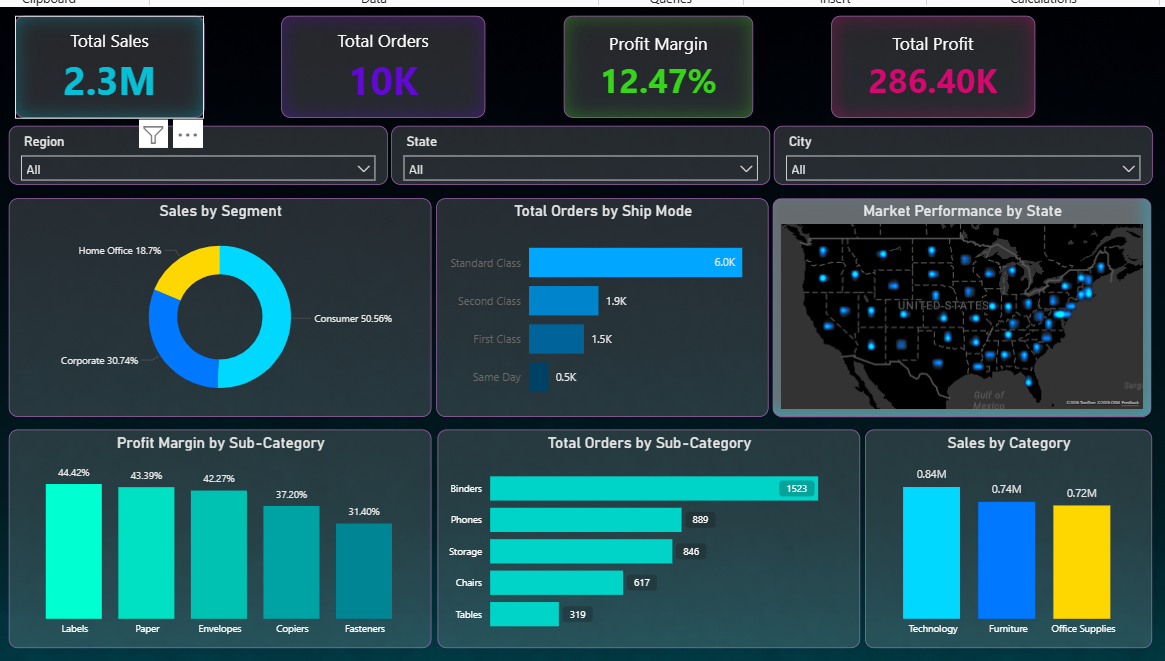

The dashboard page shown, as its layout file describes it:
{"tool":"powerbi","page":{"name":"Executive Summary","canvas":[1280,720],"ordinal":0},"visuals":[{"type":"clusteredColumnChart","title":"Sales by Category","fields":{"Y":["Sum(SampleSuperstore.Sales)"],"Category":["SampleSuperstore.Category"]},"box":[950,464,315,240],"z":0},{"type":"barChart","title":"Total Orders by Sub-Category","fields":{"Category":["SampleSuperstore.Sub-Category"],"Y":["SampleSuperstore.Total Orders"]},"box":[480,464,464,240],"z":1000},{"type":"azureMap","title":"Market Performance by State","fields":{"Size":["Sum(SampleSuperstore.Sales)"],"Category":["SampleSuperstore.State"]},"box":[848,210,416,240],"z":2000},{"type":"slicer","fields":{"Values":["SampleSuperstore.Region"]},"box":[10,130,416,65],"z":3000},{"type":"slicer","fields":{"Values":["SampleSuperstore.State"]},"box":[430,130,416,65],"z":4000},{"type":"slicer","fields":{"Values":["SampleSuperstore.City"]},"box":[850,130,416,65],"z":5000},{"type":"cardVisual","title":"Total Orders","fields":{"Data":["SampleSuperstore.Total Orders"]},"box":[309.3,10,224,112],"z":6000},{"type":"cardVisual","title":"Total Profit","fields":{"Data":["SampleSuperstore.Total Profit"]},"box":[912,10,224,112],"z":7000},{"type":"cardVisual","title":"Total Sales","fields":{"Data":["SampleSuperstore.Total Sales"]},"box":[16,10,208,112],"z":8000},{"type":"columnChart","fields":{"Category":["SampleSuperstore.Sub-Category"],"Y":["SampleSuperstore.Profit Margin"]},"box":[10,464,464,240],"z":11000},{"type":"donutChart","title":" Sales by Segment","fields":{"Category":["SampleSuperstore.Segment"],"Y":["Sum(SampleSuperstore.Sales)"]},"box":[10,210,464,240],"z":12000},{"type":"cardVisual","title":"Profit Margin","fields":{"Data":["SampleSuperstore.Profit Margin"]},"box":[618.7,10,208,112],"z":14000},{"type":"barChart","fields":{"Category":["SampleSuperstore.Ship Mode"],"Y":["SampleSuperstore.Total Orders"]},"box":[478.5,210,365,240],"z":16000}]}

Visuals, with their boxes on the page's 1280x720 design canvas (x1, y1, x2, y2). These are canvas units, not pixel positions in the 1165x661 screenshot, which may show the page scaled, cropped or inside an application window:
"Sales by Category" clusteredColumnChart: 950 464 1265 704
"Total Orders by Sub-Category" barChart: 480 464 944 704
"Market Performance by State" azureMap: 848 210 1264 450
slicer - SampleSuperstore.Region: 10 130 426 195
slicer - SampleSuperstore.State: 430 130 846 195
slicer - SampleSuperstore.City: 850 130 1266 195
"Total Orders" cardVisual: 309 10 533 122
"Total Profit" cardVisual: 912 10 1136 122
"Total Sales" cardVisual: 16 10 224 122
columnChart - SampleSuperstore.Sub-Category x SampleSuperstore.Profit Margin: 10 464 474 704
" Sales by Segment" donutChart: 10 210 474 450
"Profit Margin" cardVisual: 619 10 827 122
barChart - SampleSuperstore.Ship Mode x SampleSuperstore.Total Orders: 478 210 844 450
